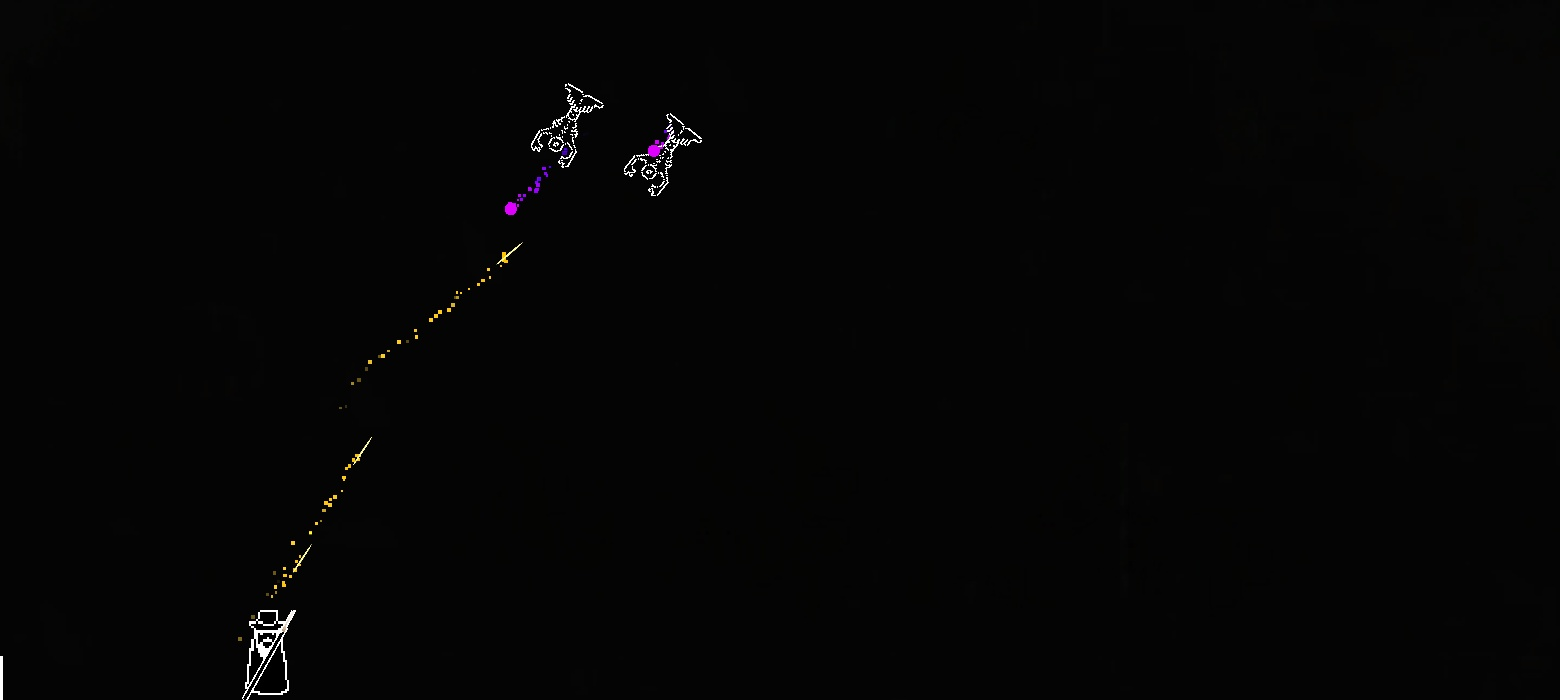enemy: (624, 113, 702, 197), (530, 82, 604, 168)
